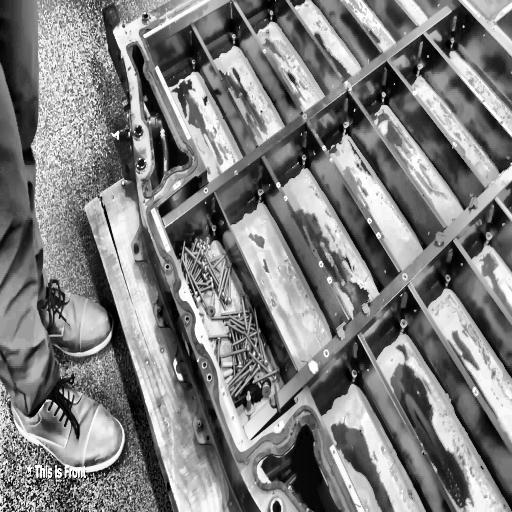b_casing: (103, 0, 512, 512)
